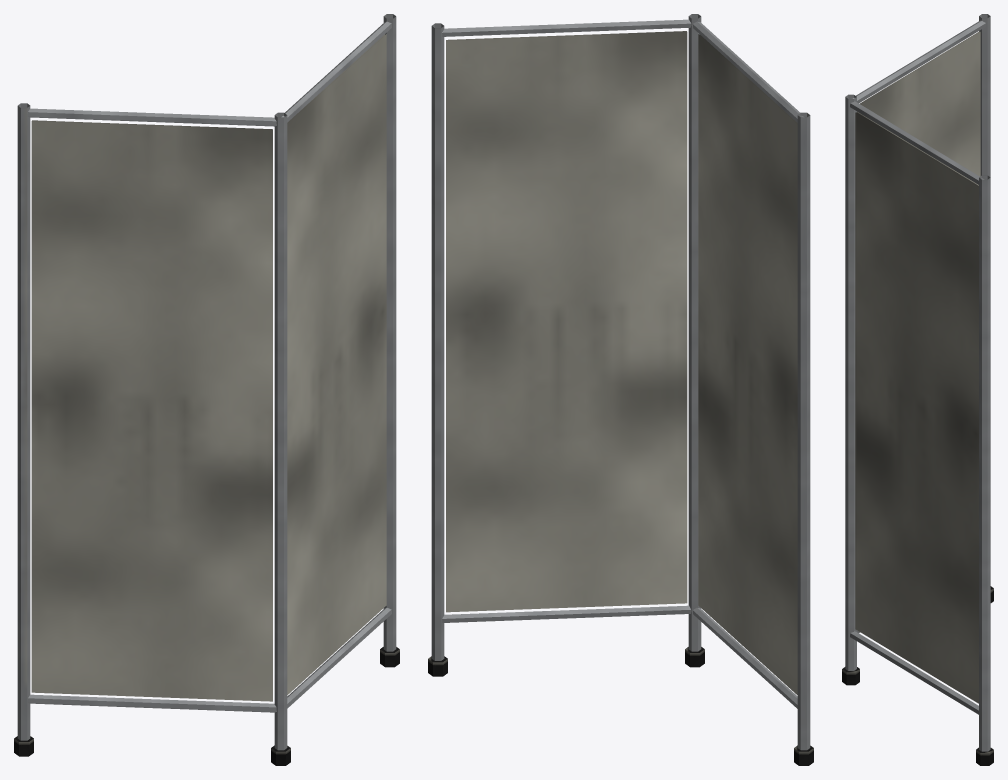
Rendered from Screen_Folding.fbx.
3 views of the same model, side by side, from view 1: azimuth 30°, elevation 25°; view 2: azimuth 150°, elevation 25°; view 3: azimuth 270°, elevation 25° (orthographic). The views are drawn at different scales.
Visible parts, largest first — view 1: ширма складная; view 2: ширма складная; view 3: ширма складная.
Boxes of the visible parts, x1,y1,x2,y2 form: ширма складная: [14, 14, 399, 765]; ширма складная: [428, 14, 813, 765]; ширма складная: [842, 14, 993, 765].
Bounding box in the file's own units: 1.11 × 1.8 × 0.4228.
1 material, 1 textured.
